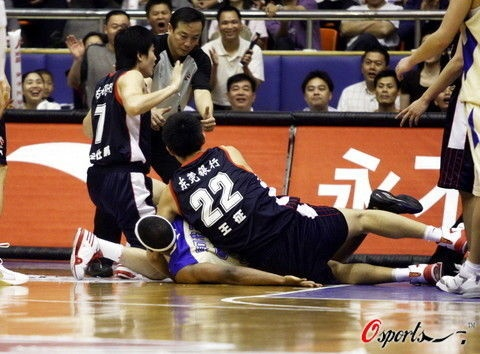falling: (128, 104, 458, 291)
